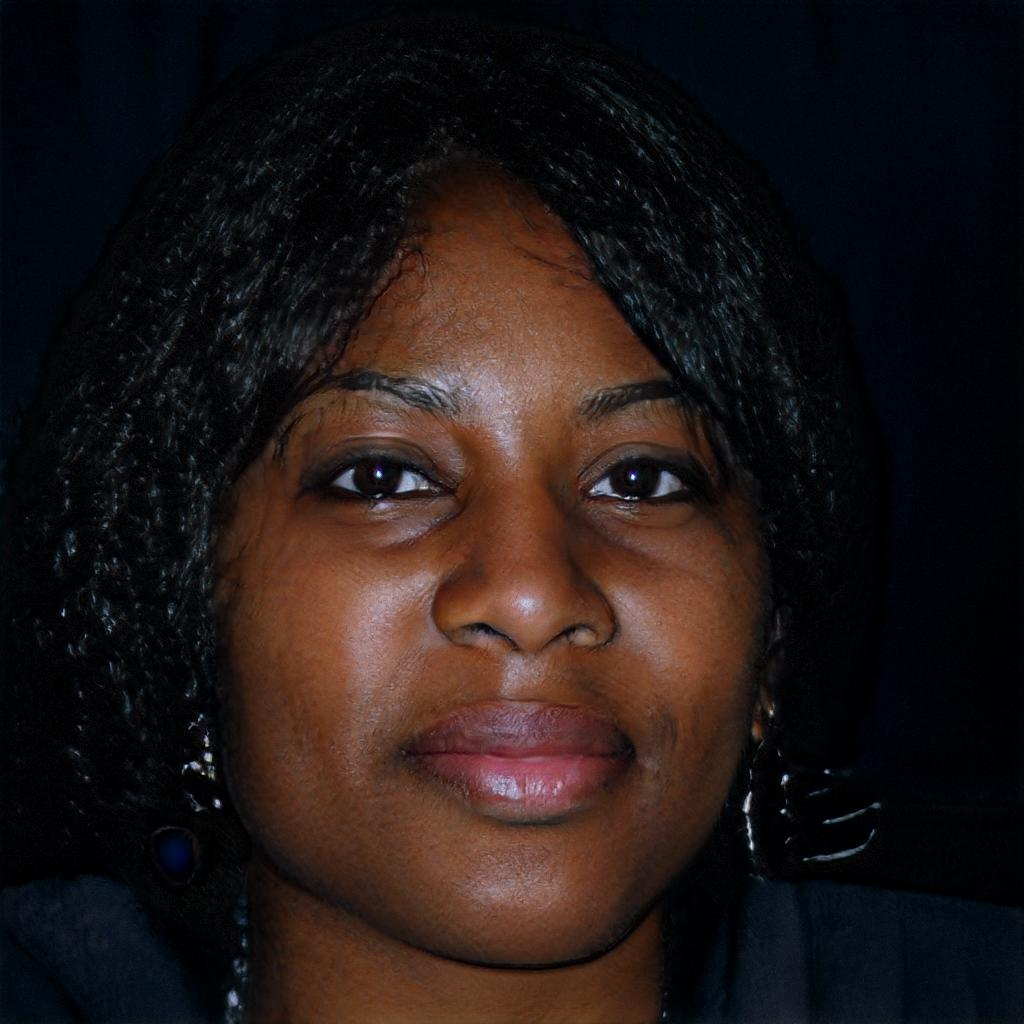face: (215, 190, 768, 965)
